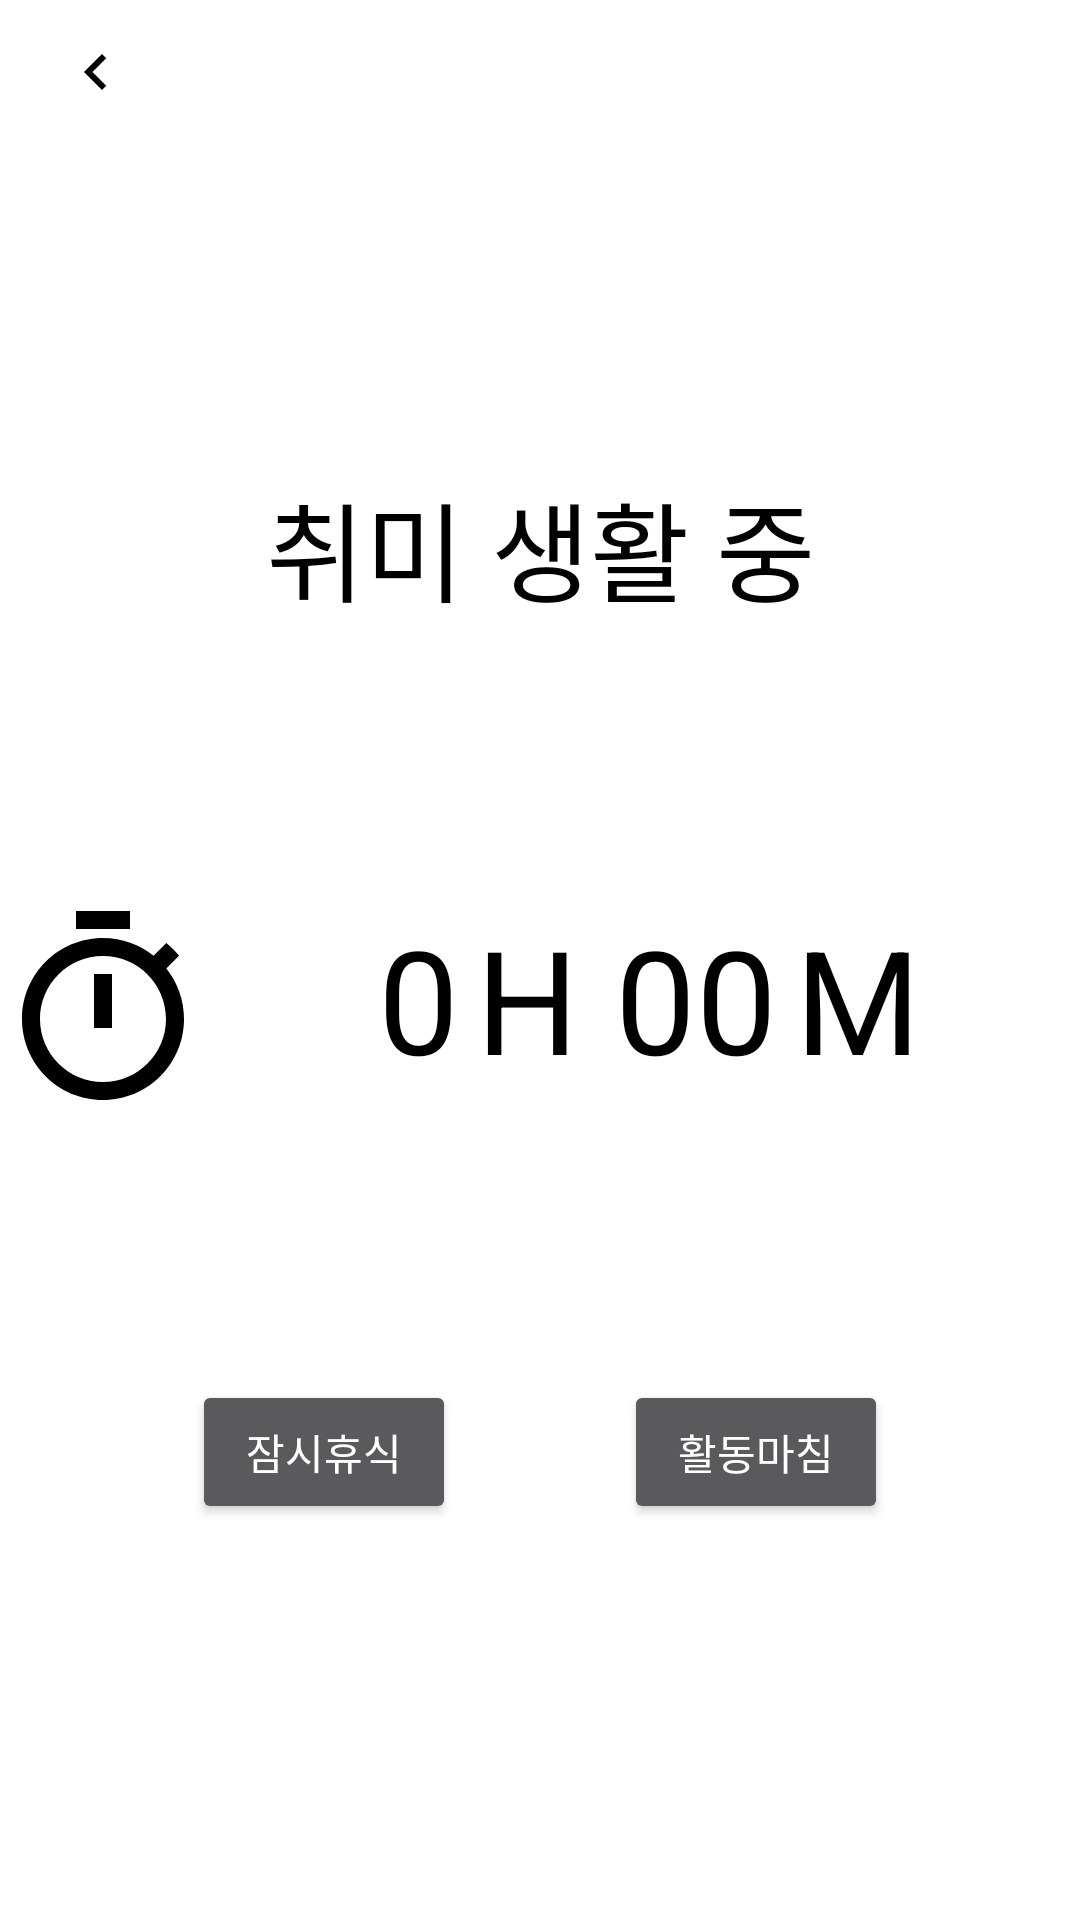

Named icons in this screenshot (1080px×1920px) and their centers, [x,y]:
timer: [103,1005]
